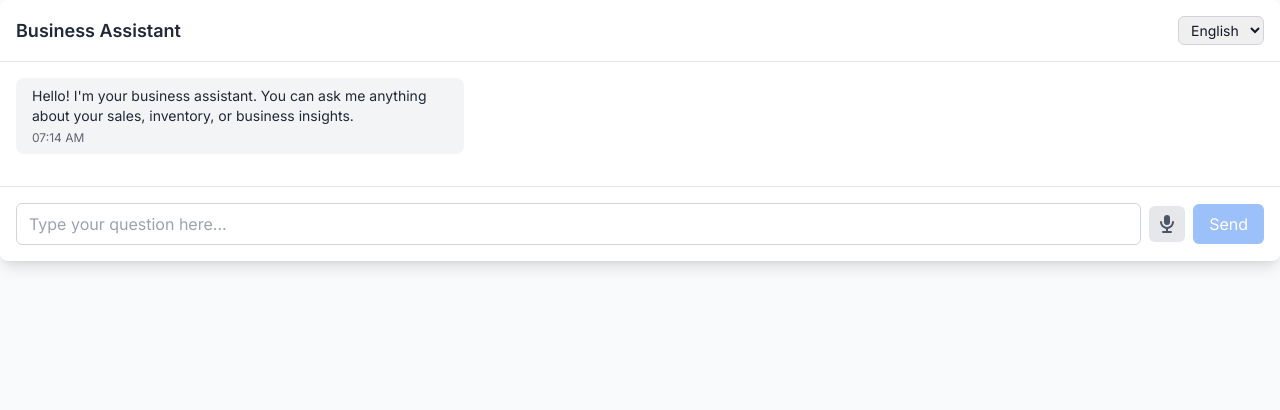
ChatInterface › voice messaging › should disable voice button while loading
This screenshot has width=1280, height=410.
Step 1. Type "Test" into the field with placeholder "Type your question here..." → {"x": 579, "y": 224}, box [16, 203, 1141, 245]
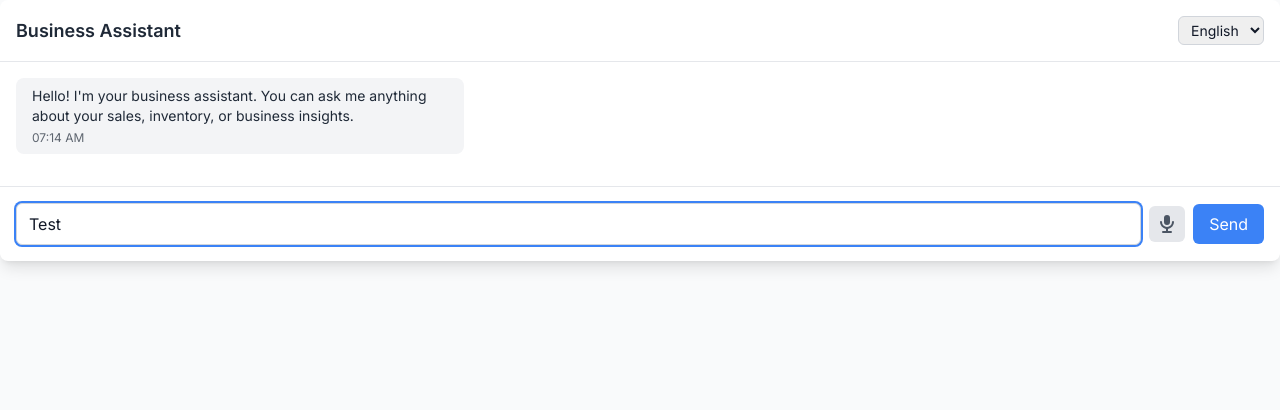
Step 2. Click the button "Send" → {"x": 1229, "y": 224}, box [1193, 204, 1264, 244]
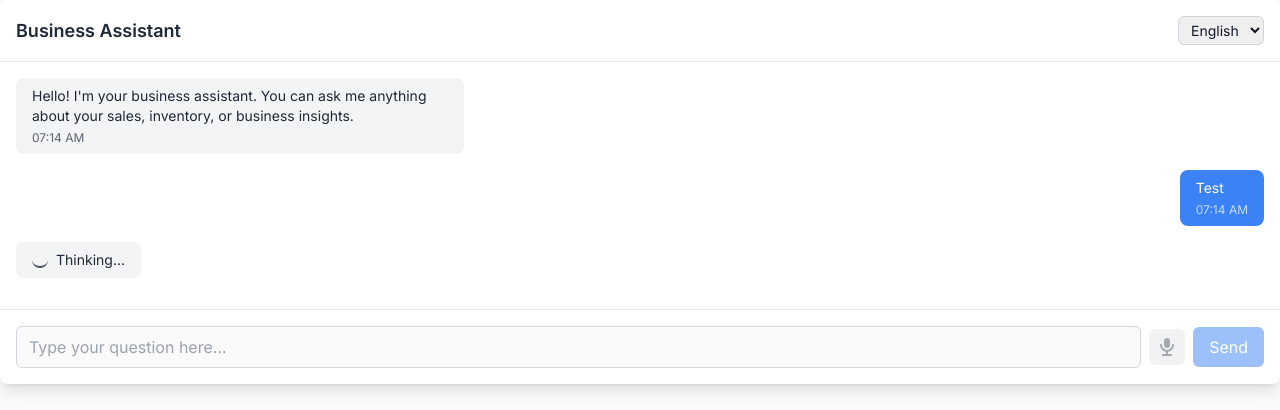
Result: the button named "voice recording" is disabled at [1149, 329, 1185, 365]
